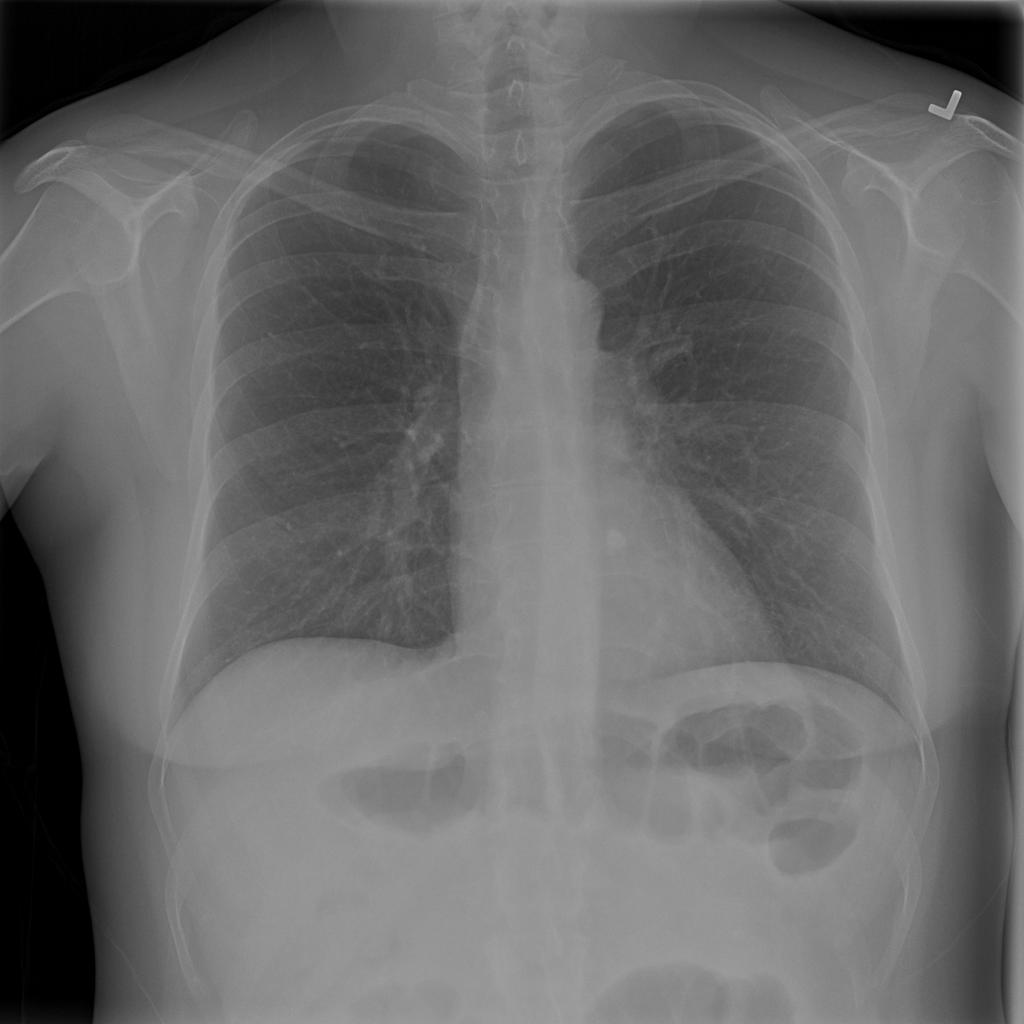nodule: (595, 512, 639, 565)
